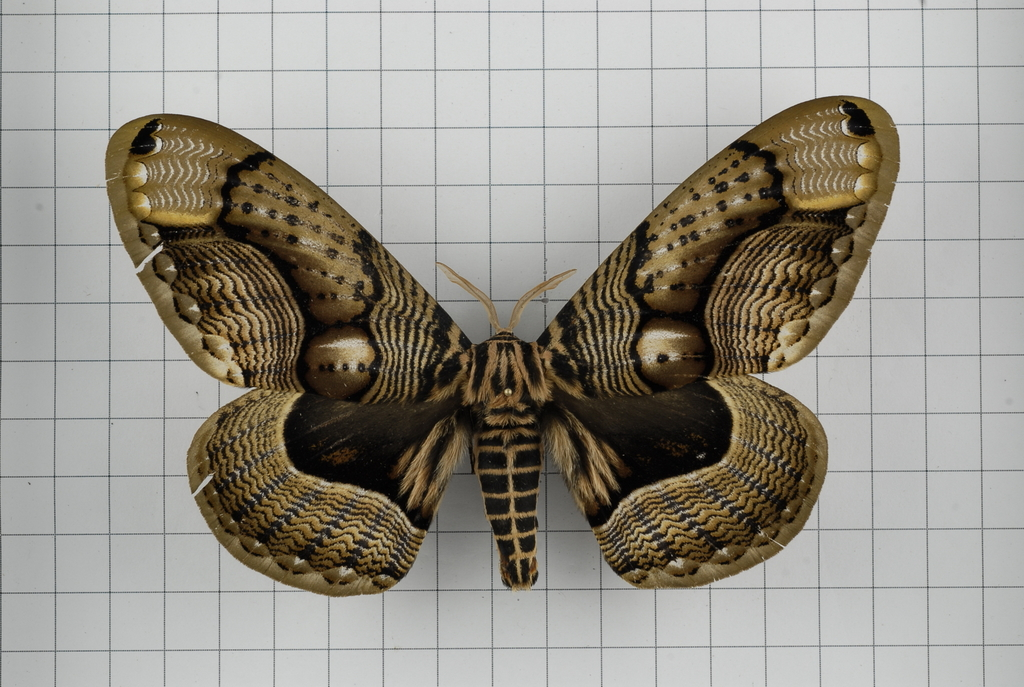Butterfly: (107, 94, 915, 609)
